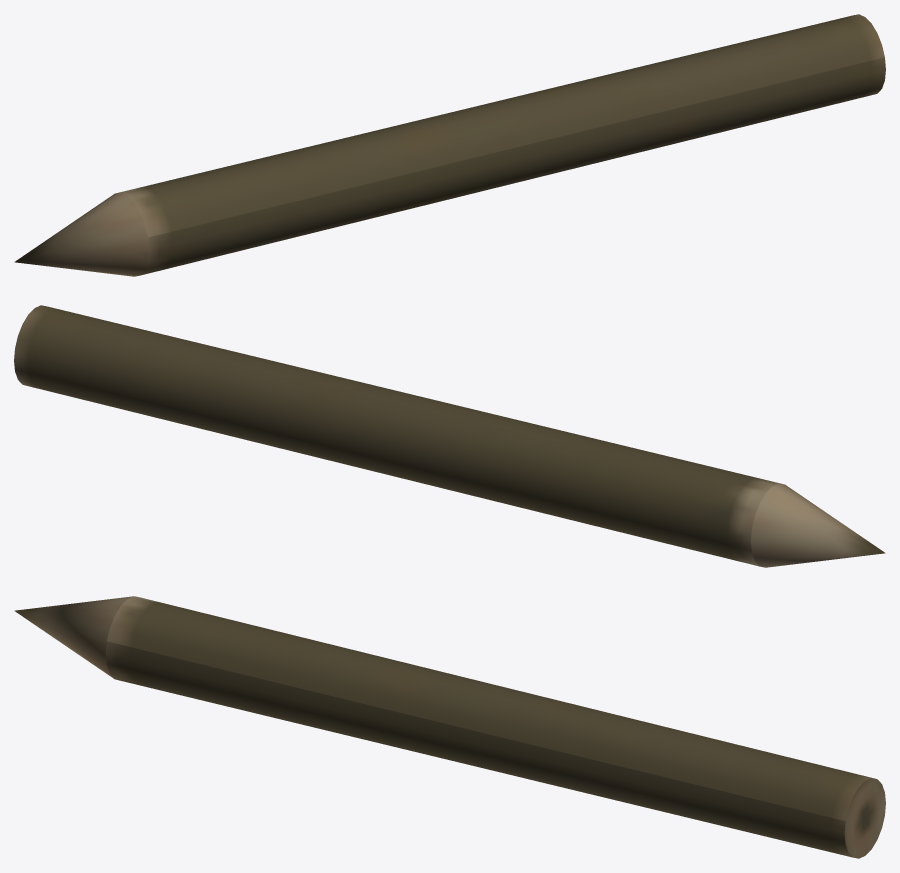
File: SM_Farm_Pencil_02.fbx
3 renders of one model, top to bottom at view 1: azimuth 30°, elevation 25°; view 2: azimuth 150°, elevation 25°; view 3: azimuth 330°, elevation 25°, orthographic.
Visible parts, largest first — view 1: SM_Farm_Pencil_02_LOD0; view 2: SM_Farm_Pencil_02_LOD0; view 3: SM_Farm_Pencil_02_LOD0.
Part boxes in pixels (x1,y1,x2,y2): SM_Farm_Pencil_02_LOD0: [14, 14, 885, 276]; SM_Farm_Pencil_02_LOD0: [14, 305, 885, 567]; SM_Farm_Pencil_02_LOD0: [14, 596, 885, 858].
Size of the model in its own units: 25.32 by 2.23 by 2.23.
